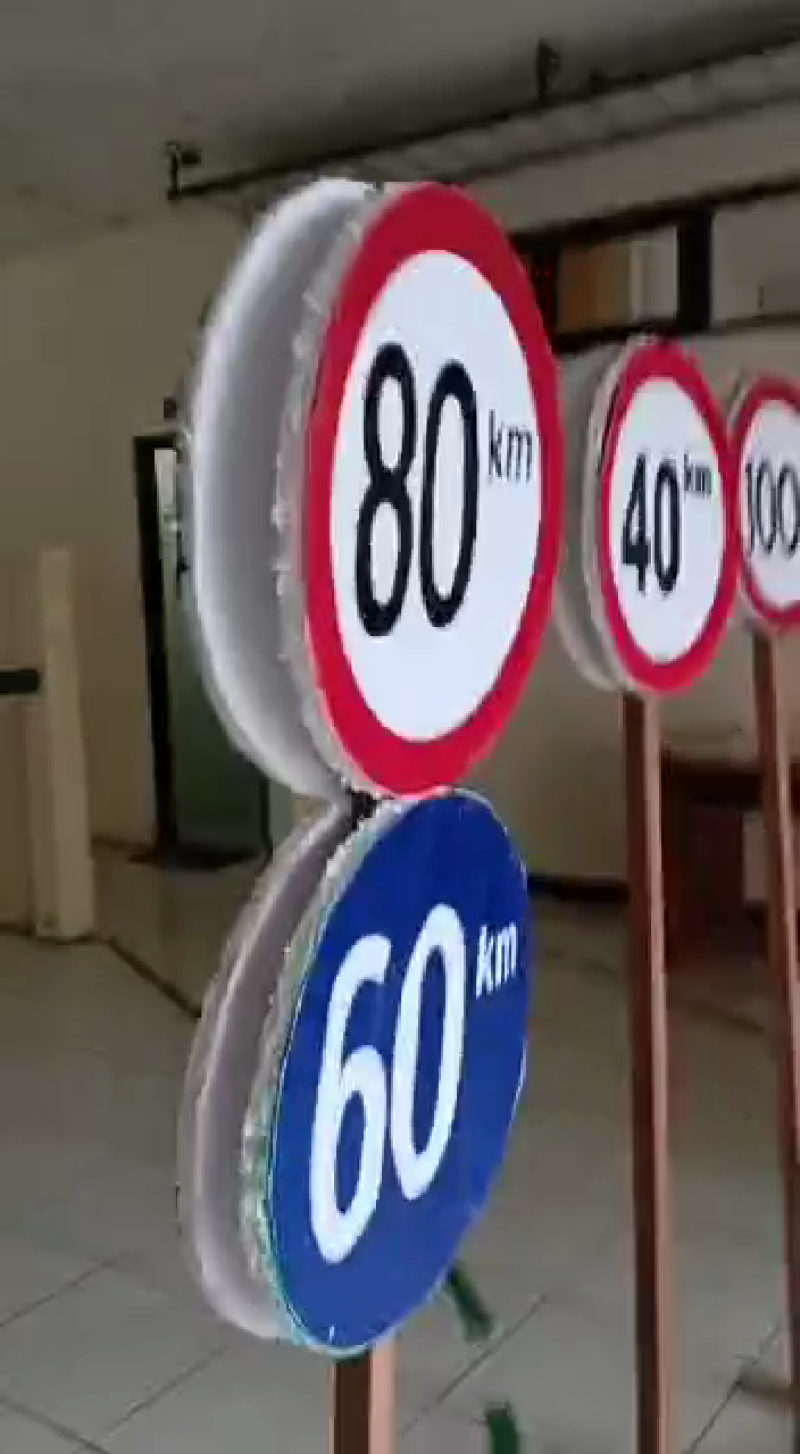batas maksimal 100kmperjam: (717, 357, 800, 641)
batas maksimal 40kmperjam: (576, 328, 746, 702)
batas maksimal 80kmperjam minimal 60kmperjam: (230, 174, 571, 1369)
